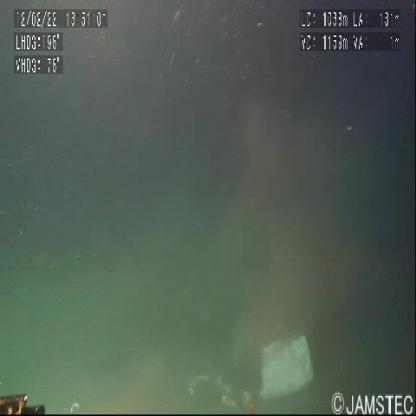Rác: (261, 336, 314, 398)
